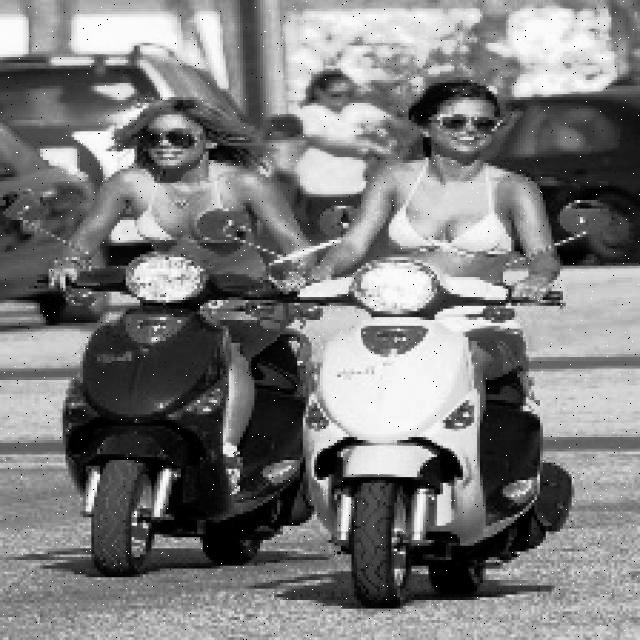Bike: (280, 266, 562, 597), (60, 258, 304, 589)
